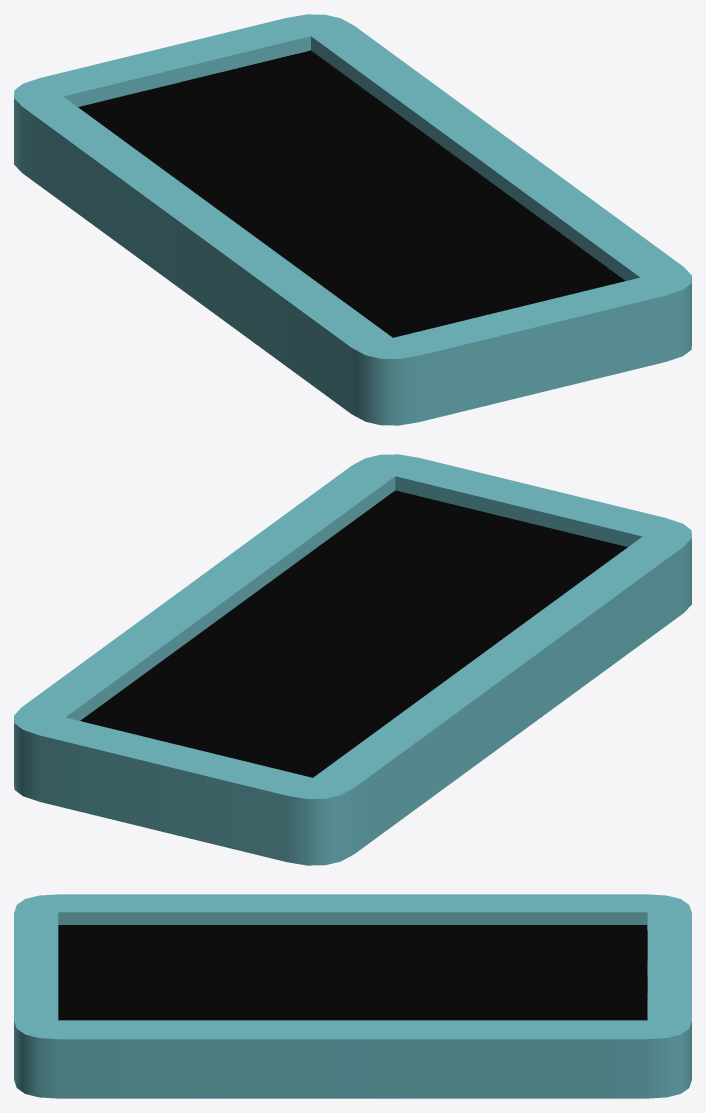
Rendered from phone.fbx.
3 renders of one model, top to bottom at view 1: azimuth 30°, elevation 25°; view 2: azimuth 150°, elevation 25°; view 3: azimuth 270°, elevation 25°, orthographic. The views are drawn at different scales.
Parts seen in each view (by area): view 1: Box001; view 2: Box001; view 3: Box001.
Boxes of the visible parts, bbox=[...] form: Box001: bbox=[14, 14, 691, 425]; Box001: bbox=[14, 454, 691, 865]; Box001: bbox=[14, 894, 691, 1098].
Bounding box in the file's own units: 0.3897 × 0.7712 × 0.0851.
Materials: 1 (1 with a texture image).
